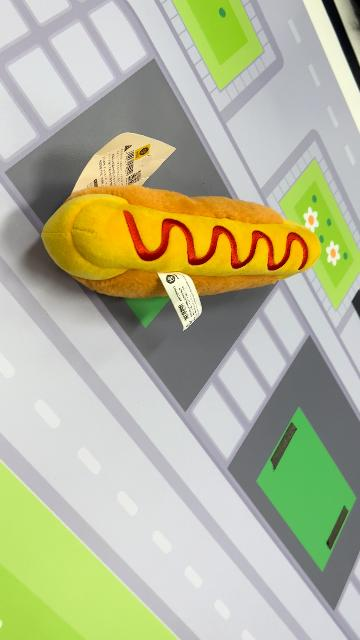hotdog: (41, 185, 323, 302)
